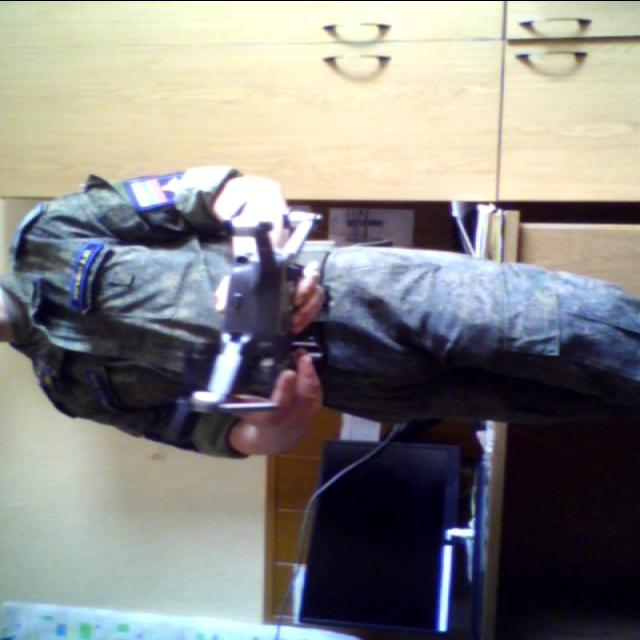drone: (153, 195, 339, 446)
